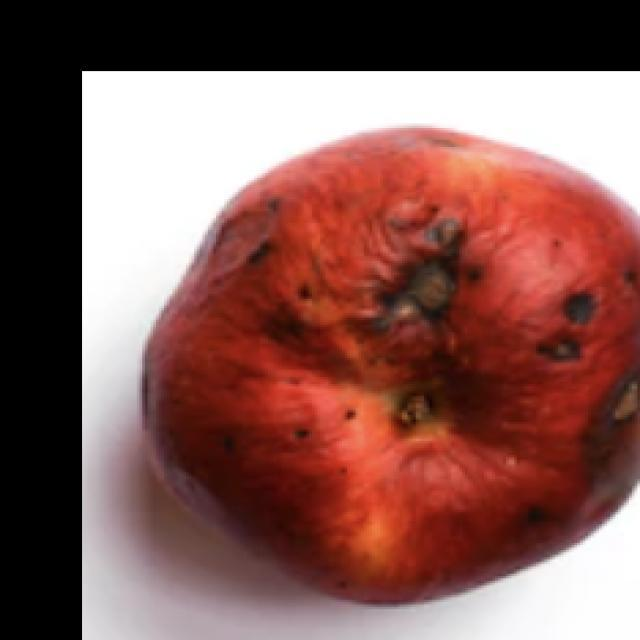Rotten: (150, 120, 640, 599)
